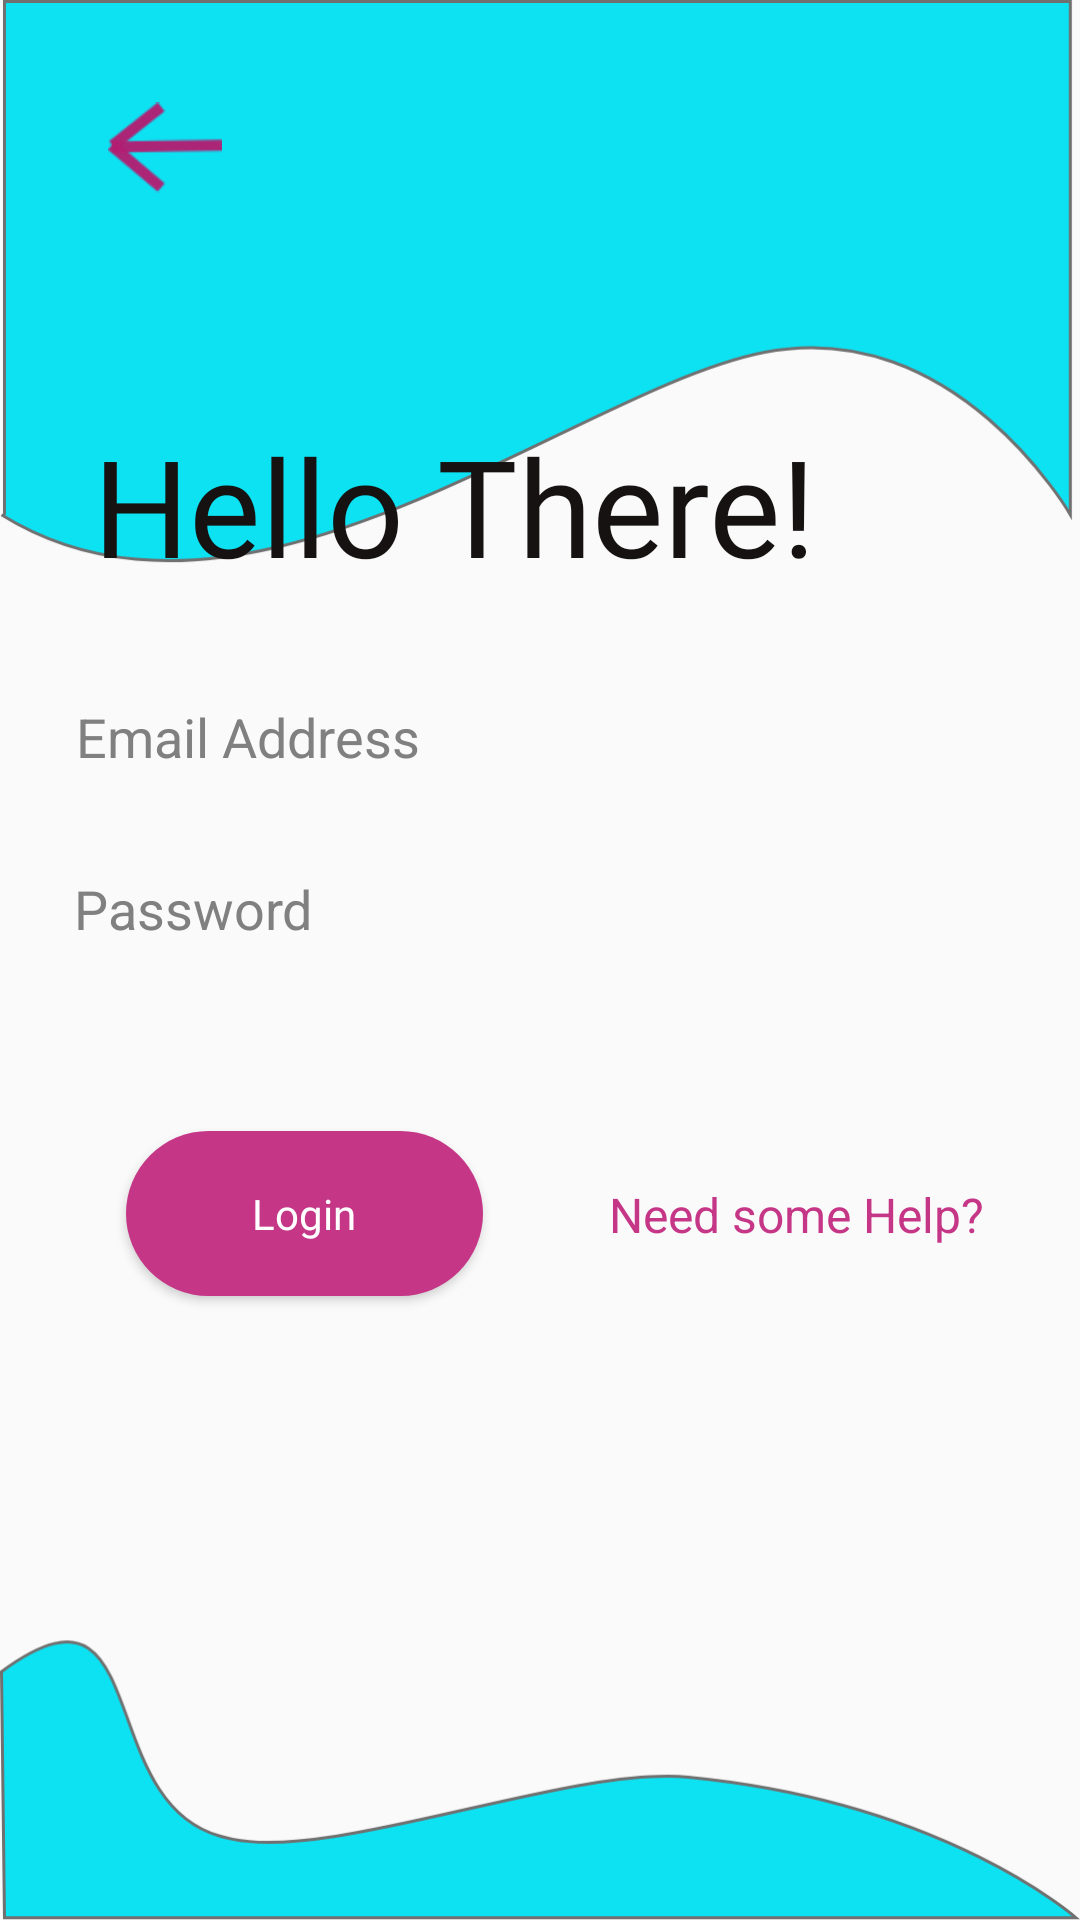

Icons on this 1080x1920 Android screen, each with the point to tap as point (x, y):
arrow: point (165, 147)
